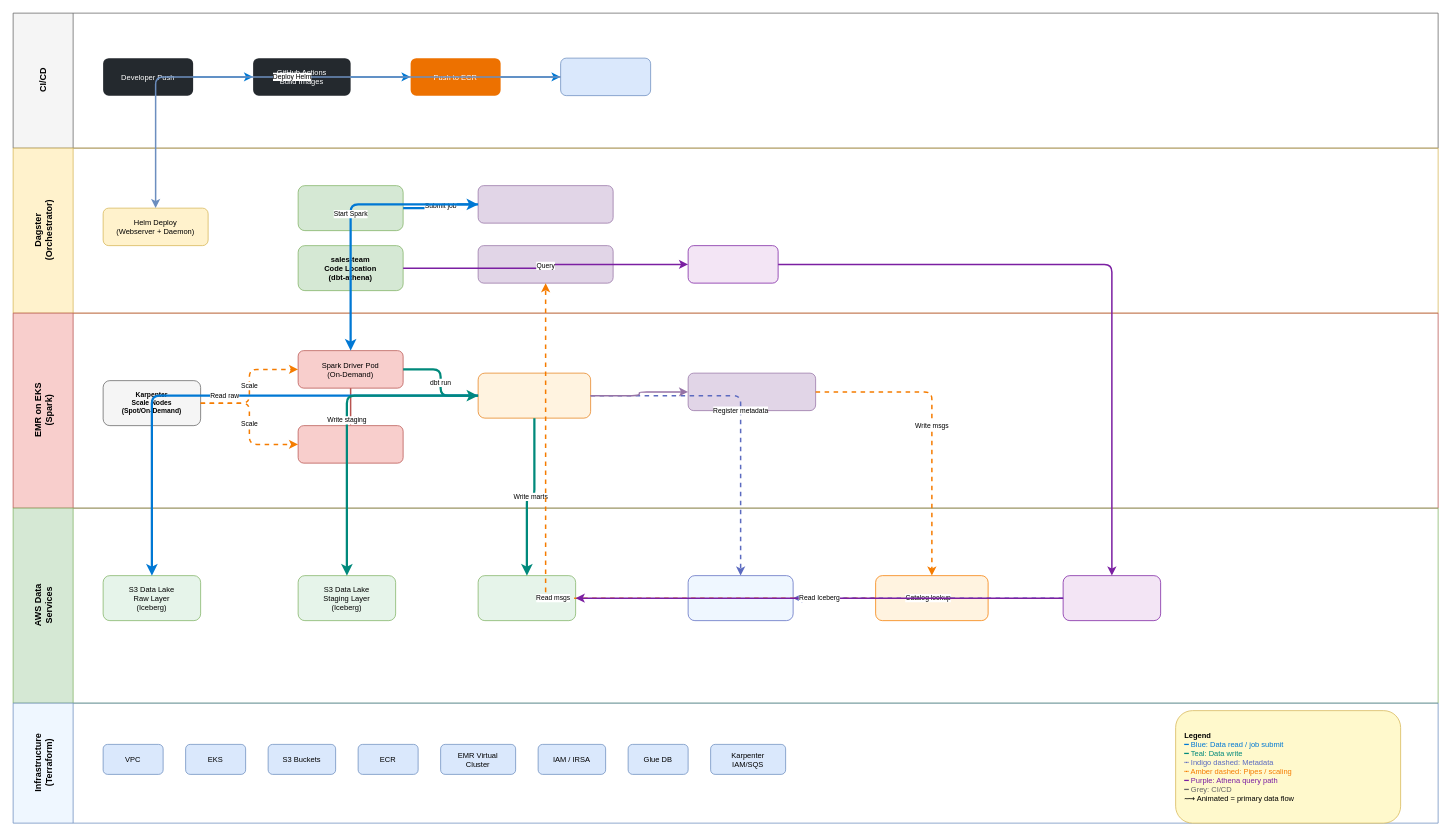
The diagram is 1451 pixels wide and 836 high, and some of its shapes have lost their labels. Each missing label, with the centre of its shape:
Amazon Athena: the point at 1111,598
ArgoCD GitOps Sync: the point at 605,76
AWS Glue Data Catalog (Metastore): the point at 740,598
dbt-spark (method: session) + Apache Iceberg: the point at 534,395
de-team Code Location (dbt-spark): the point at 350,208
PipesEMRContainersClient (Submit Spark Job): the point at 545,204
PipesS3MessageReader (Receive completion): the point at 545,264
PipesS3MessageWriter (Report to Dagster): the point at 751,391
Query Athena: the point at 732,264
S3 Data Lake Marts Layer (Iceberg): the point at 526,598
S3 Pipes Bucket (Dagster↔Spark msgs): the point at 931,598
Spark Executor Pods (Spot Instances): the point at 350,444
